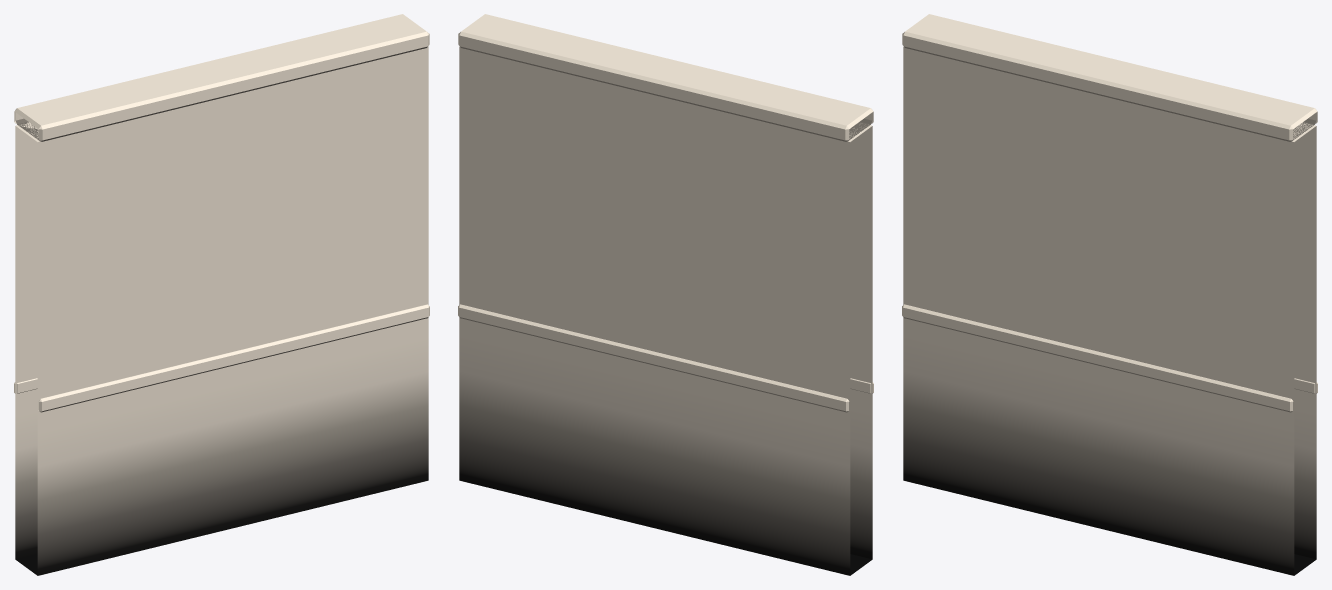
File: SM_VKI_Wall_Board_Plain_300_Full.fbx
3 views of the same model, side by side, from view 1: azimuth 30°, elevation 25°; view 2: azimuth 150°, elevation 25°; view 3: azimuth 330°, elevation 25° (orthographic).
Parts seen in each view (by area): view 1: SM_VKI_Wall_Board_Plain_300_Full.001; view 2: SM_VKI_Wall_Board_Plain_300_Full.001; view 3: SM_VKI_Wall_Board_Plain_300_Full.001.
Part boxes in pixels (x1,y1,x2,y2): SM_VKI_Wall_Board_Plain_300_Full.001: (14,14,429,575); SM_VKI_Wall_Board_Plain_300_Full.001: (458,14,873,575); SM_VKI_Wall_Board_Plain_300_Full.001: (902,14,1317,575).
Bounding box in the file's own units: 3 × 3.3 × 0.36.
